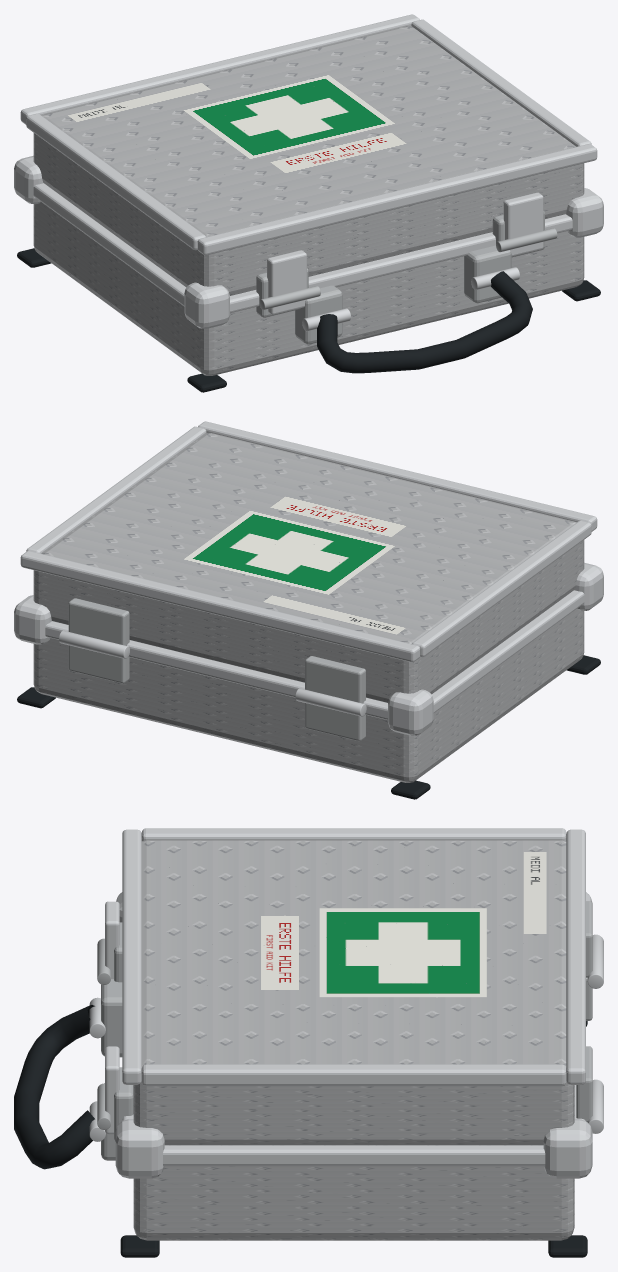
File: HomebaseFirstAidCase_LOD00.gltf
The picture shows the model from 3 angles, top to bottom: view 1: azimuth 30°, elevation 25°; view 2: azimuth 150°, elevation 25°; view 3: azimuth 270°, elevation 25°; orthographic projection. The views are drawn at different scales.
Visible parts, largest first — view 1: FirstAidCase; view 2: FirstAidCase; view 3: FirstAidCase.
Boxes of the visible parts, <box> form: FirstAidCase: <box>14,14,603,392</box>; FirstAidCase: <box>14,421,603,799</box>; FirstAidCase: <box>14,828,603,1257</box>.
Size of the model in its own units: 0.362 by 0.1265 by 0.3612.
Materials: 6 (2 with a texture image).
